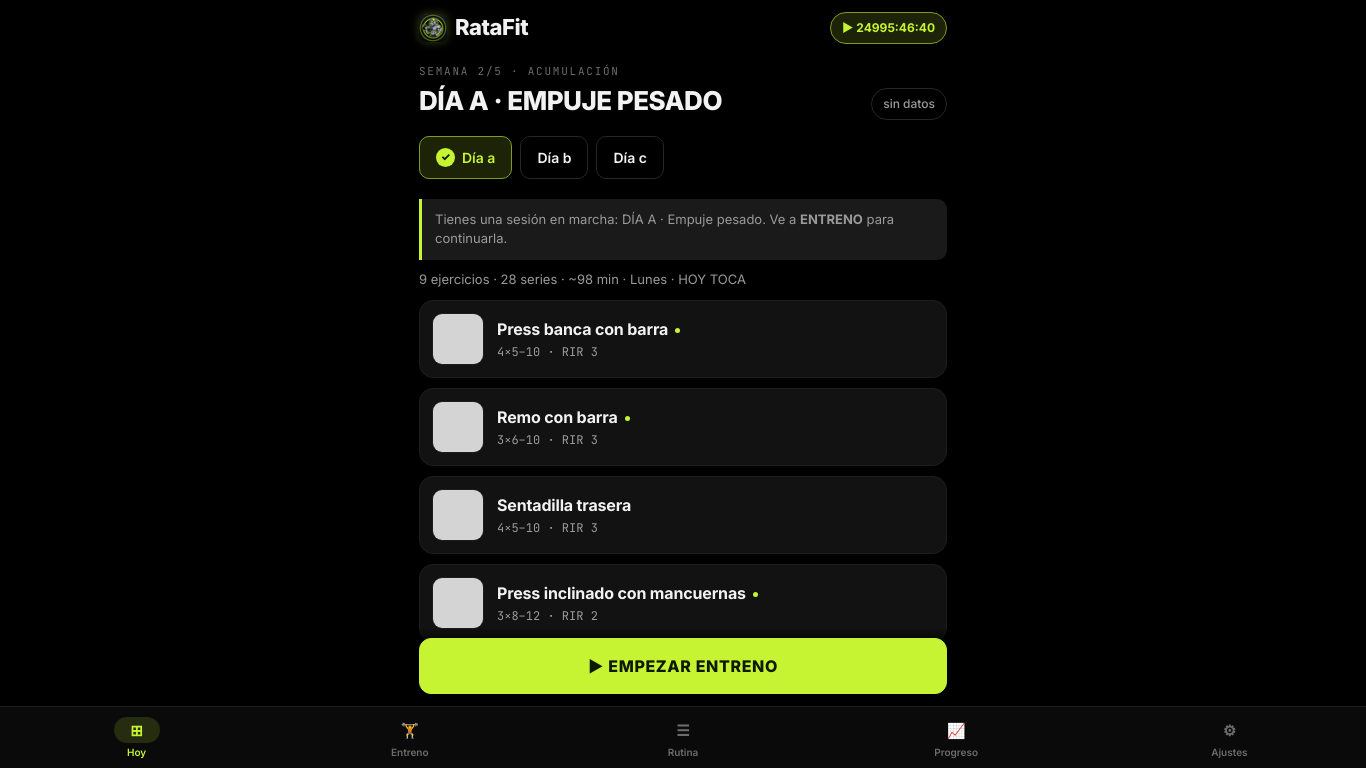
cronómetro de descanso en la sesión › permite lanzar el descanso a mano desde el ejercicio
Step 1. Click the button "🏋 Entreno" → (410, 738), box [273,711,546,764]
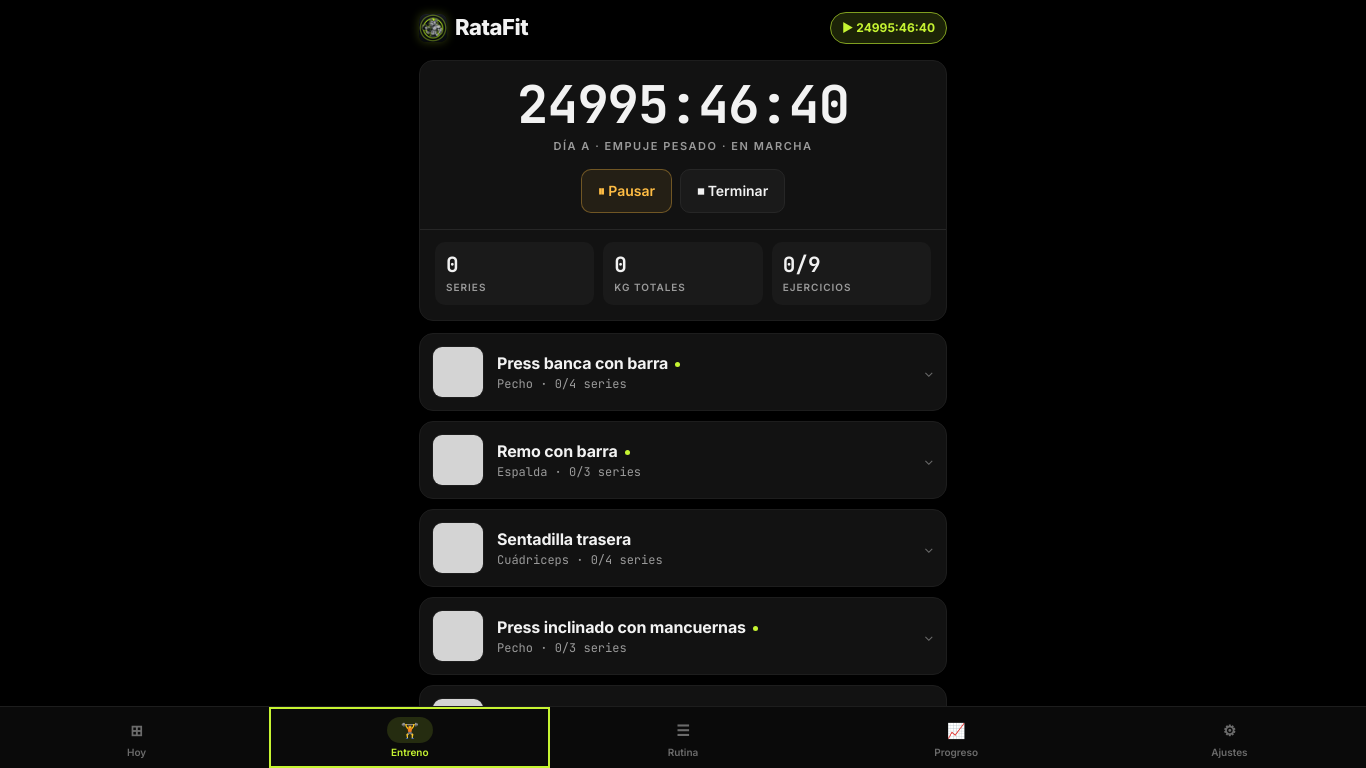
Step 2. Click the button "Press banca con barra Pecho · 0/4 series ⌄" → (458, 372), box [420,334,946,410]
(page scrolled)
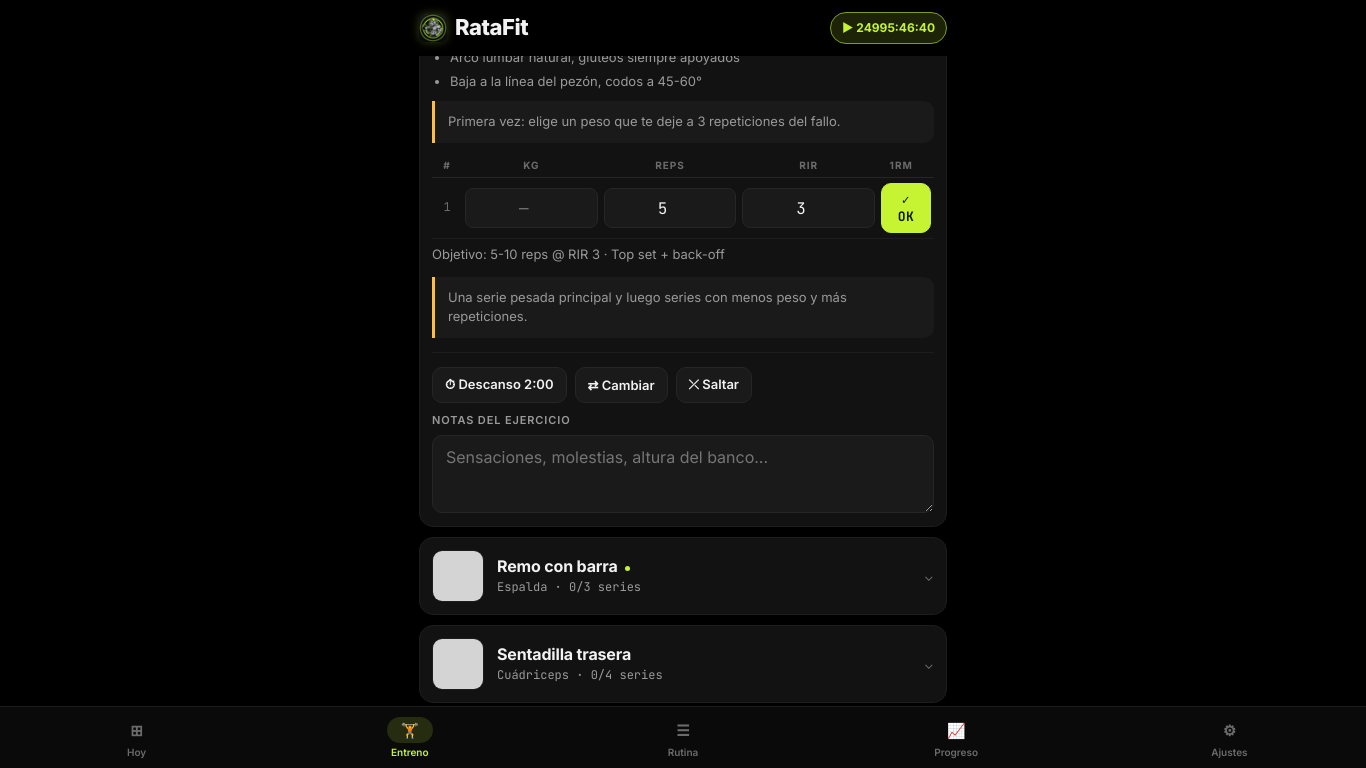
Step 3. Click the button "⏱ Descanso 2:00" → (499, 385), box [432,367,566,403]
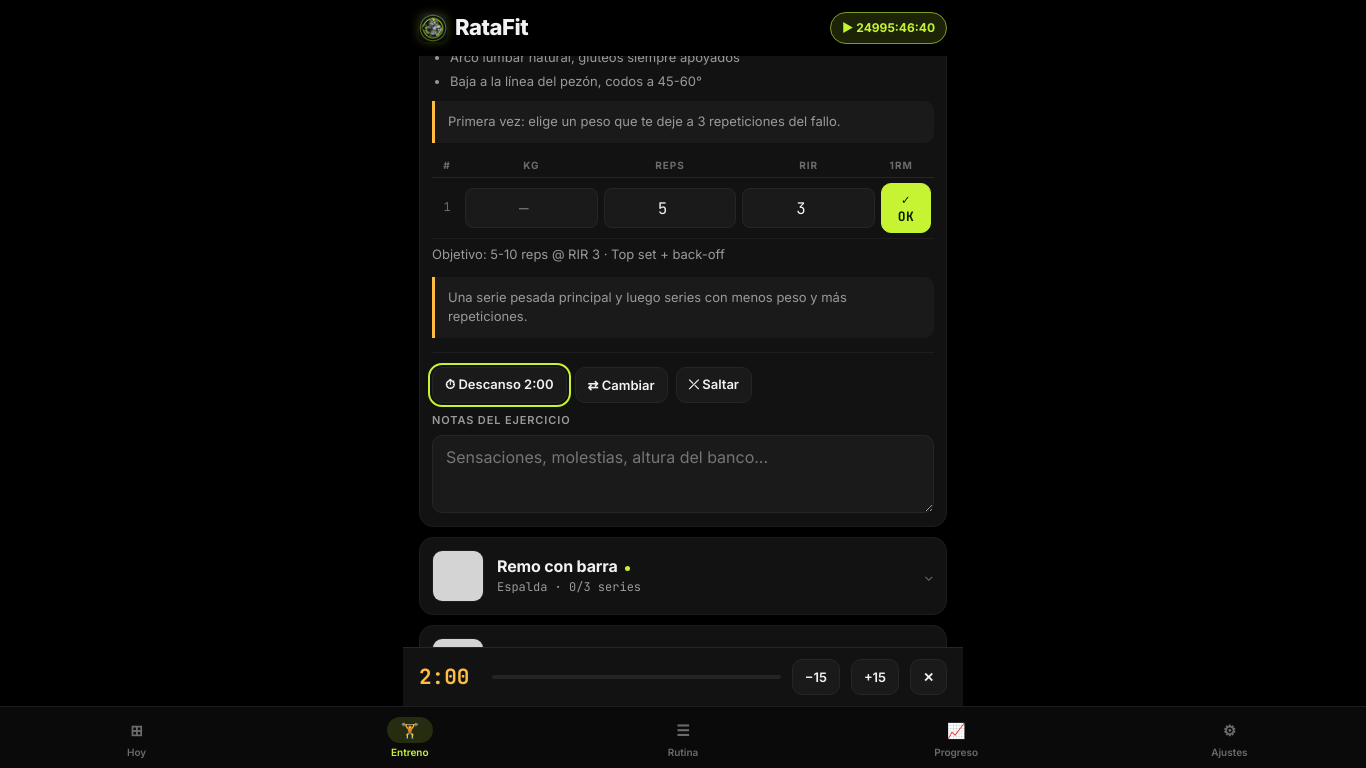
Result: the message shows "2:00" at [419,663,469,690]
